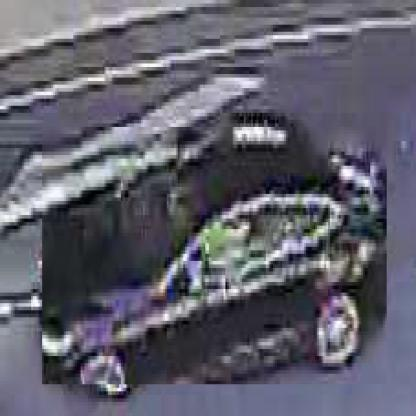car: (43, 128, 390, 389)
